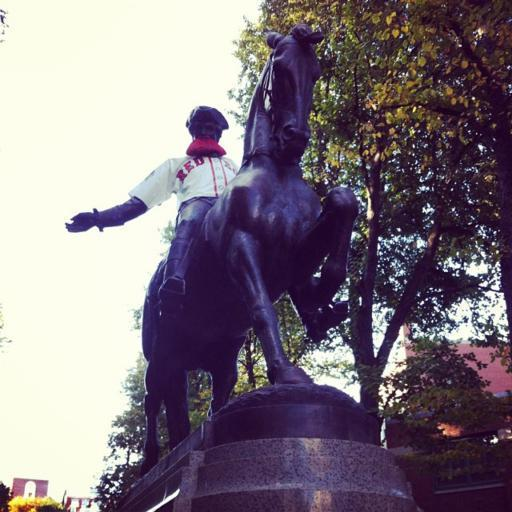horse: (138, 16, 360, 480)
